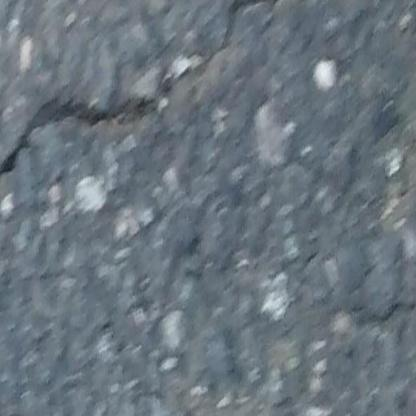Cracks: (0, 0, 325, 218)
